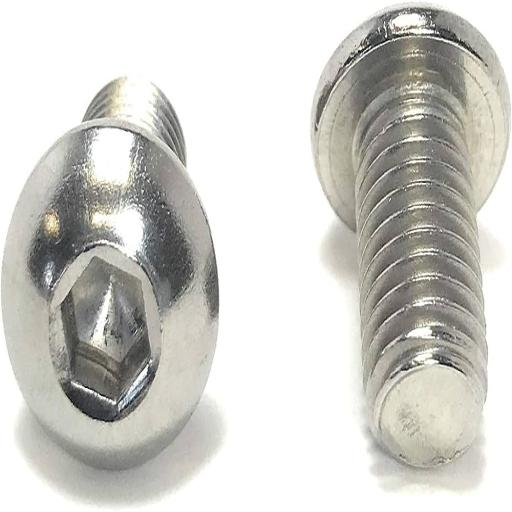Hex-Allen: (4, 122, 220, 480)
